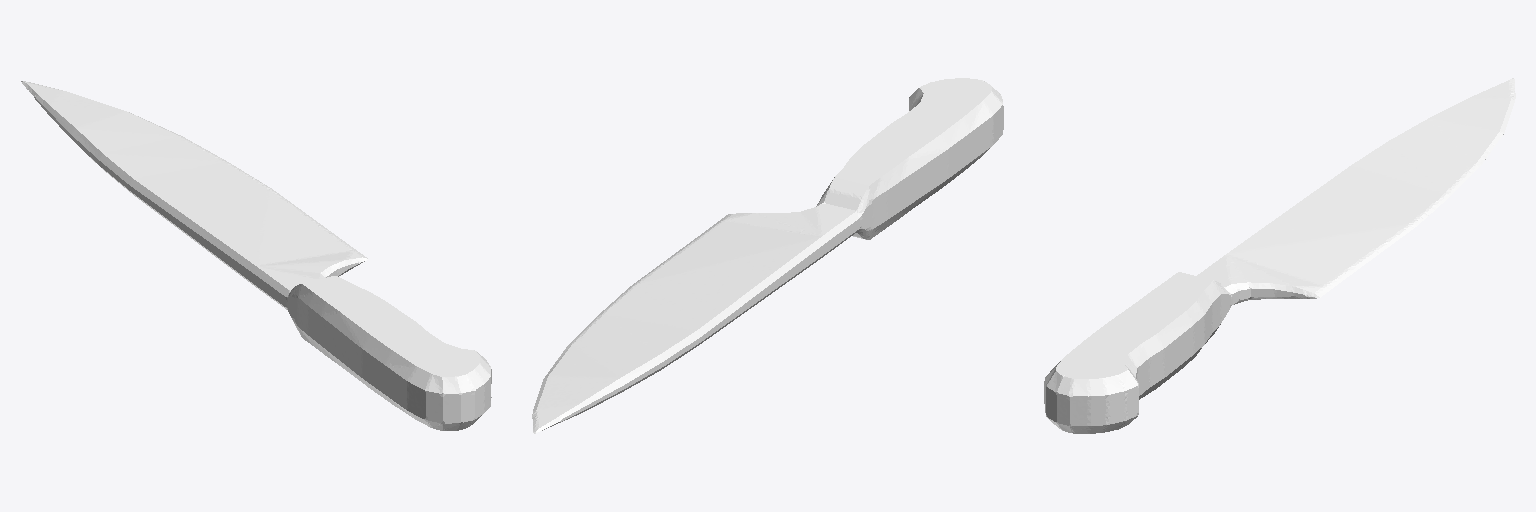
robot.urdf — model.urdf:
<?xml version="0.0" ?>
<robot name="model.urdf">
  <link name="com">
    <!-- <contact> -->
    <!--   <friction_anchor/> -->
    <!--   <lateral_friction value="1.0"/> -->
    <!--   <rolling_friction value="0.0"/> -->
    <!--   <contact_cfm value="0.0"/> -->
    <!--   <contact_erp value="1.0"/> -->
    <!-- </contact> -->
    <inertial>
       <origin rpy="0 0 0.0" xyz="0.02 -0.01 0.01"/>
       <mass value=".035"/>
       <inertia ixx="1e-3" ixy="0" ixz="0" iyy="1e-3" iyz="0" izz="1e-3"/>
    </inertial>
    <visual>
      <geometry>
        <mesh filename="knife.obj" scale="1 1 1"/>
      </geometry>
      <material name="white">
        <color rgba="1. 1. 1. 1."/>
      </material>
    </visual>
    <collision>
      <geometry>
        <mesh filename="knife.obj" scale="1 1 1"/>
      </geometry>
    </collision>
  </link>
  <joint name="com_use_joint" type="fixed">
    <parent link="com"/>
    <child link="use_p"/>
    <origin rpy="0 0 0" xyz="0.0 -0.07 0.00"/>
  </joint>
  <link name="use_p">
    <inertial>
      <mass value="0.00"/>
      <inertia ixx="0.0" ixy="0.0" ixz="0.0" iyy="0.0" iyz="0.0" izz="0.0"/>
    </inertial>
  </link>
  <joint name="com_handoff_joint" type="fixed">
    <parent link="com"/>
    <child link="handoff_p"/>
    <origin rpy="0 0 0" xyz="0.0 0.07 0.00"/>
  </joint>
  <link name="handoff_p">
    <inertial>
      <mass value="0.00"/>
      <inertia ixx="0.0" ixy="0.0" ixz="0.0" iyy="0.0" iyz="0.0" izz="0.0"/>
    </inertial>
  </link>
</robot>

--- Render facts (derived) ---
The picture shows the robot from 3 angles, left to right: view 1: azimuth 30°, elevation 25°; view 2: azimuth 150°, elevation 25°; view 3: azimuth 330°, elevation 25°; orthographic projection.
Model model.urdf with 3 links and 2 joints (2 fixed), rooted at com, posed all joints at 0.
Visible links, largest first — view 1: com; view 2: com; view 3: com.
Boxes of the visible links, left/top/right/bottom form: com: left=21, top=81, right=491, bottom=430; com: left=532, top=78, right=1003, bottom=433; com: left=1044, top=78, right=1515, bottom=433.
Size in the robot's own frame: 0.0321 by 0.221 by 0.0148 metres.
1 mesh visuals loaded from 1 distinct referenced files (1 OBJ).